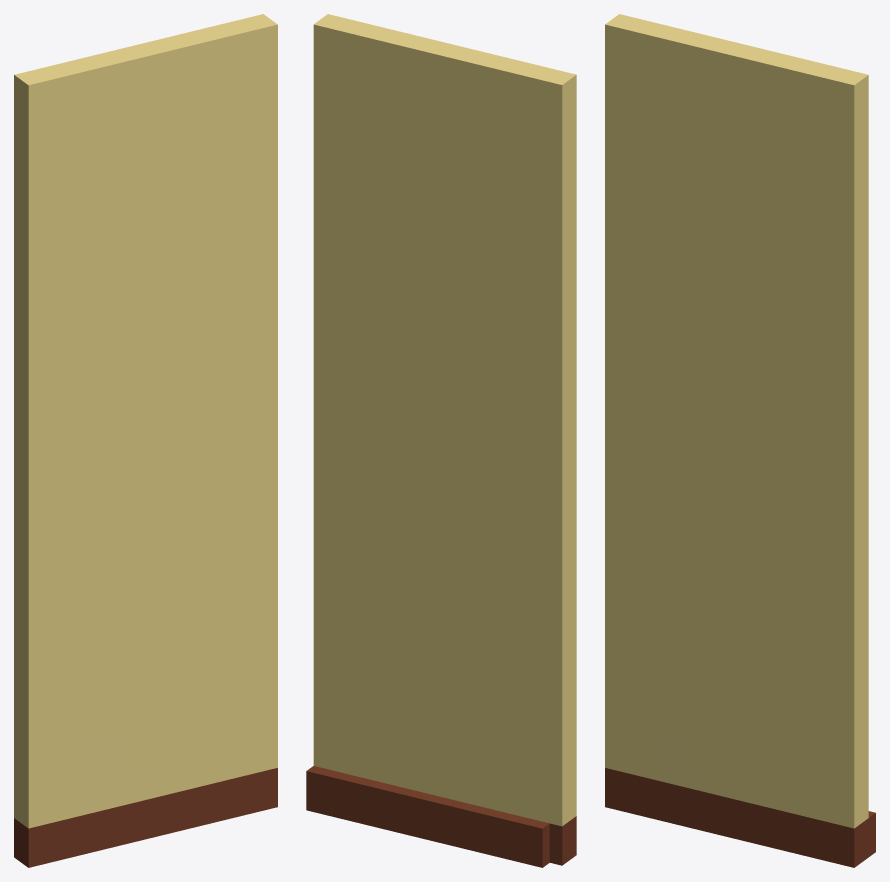
The model's file is wall-right.fbx.
3 views of the same model, side by side, from view 1: azimuth 30°, elevation 25°; view 2: azimuth 150°, elevation 25°; view 3: azimuth 330°, elevation 25° (orthographic).
Visible parts, largest first — view 1: Wall.004; view 2: Wall.004; view 3: Wall.004.
Boxes of the visible parts, x1,y1,x2,y2 form: Wall.004: (14,14,277,867); Wall.004: (306,14,576,867); Wall.004: (605,14,875,867).
Bounding box in the file's own units: 200 × 600 × 30.
